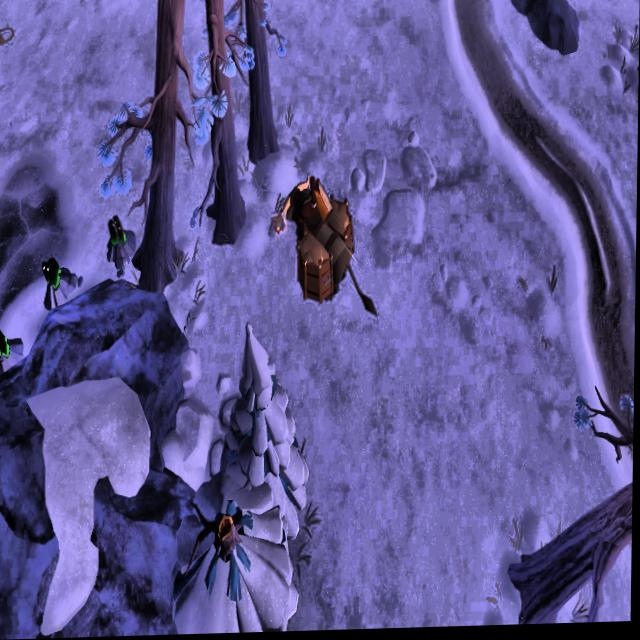ore_t3: (107, 211, 126, 251), (43, 253, 62, 291), (0, 318, 10, 361)
